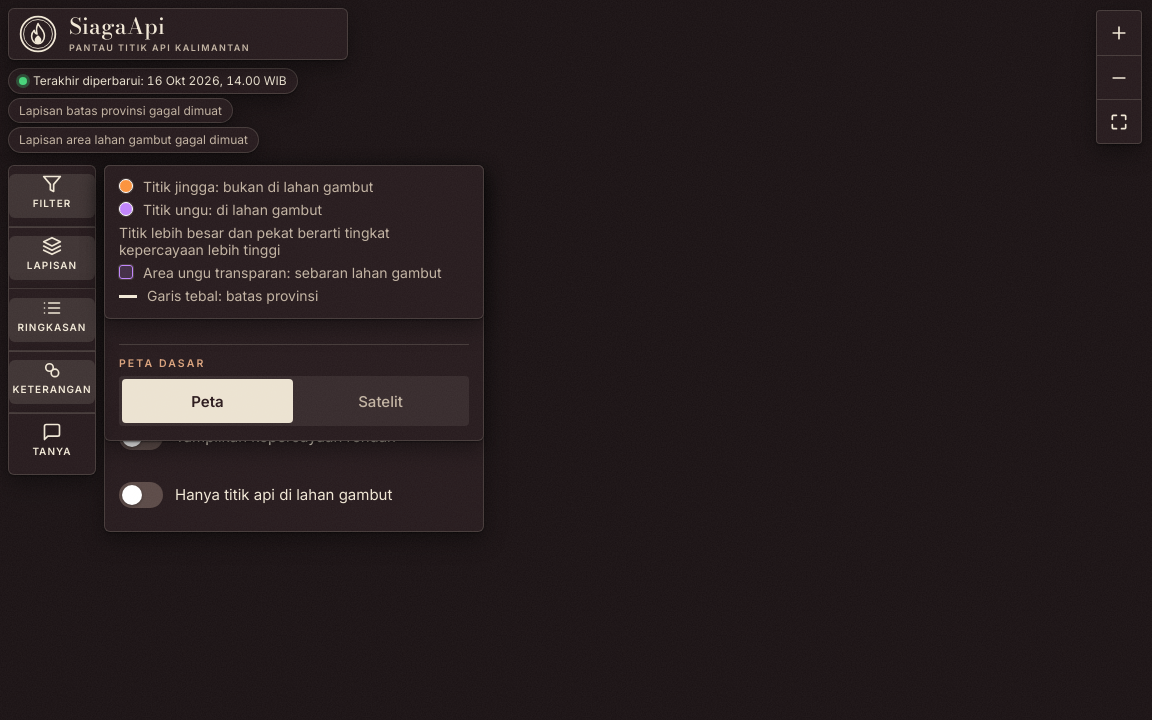
Test: a chat message is on screen once it has arrived, and at once with reduced motion
This screenshot has width=1152, height=720.
Click the button "Tanya".
click(52, 444)  # box [9, 422, 95, 466]
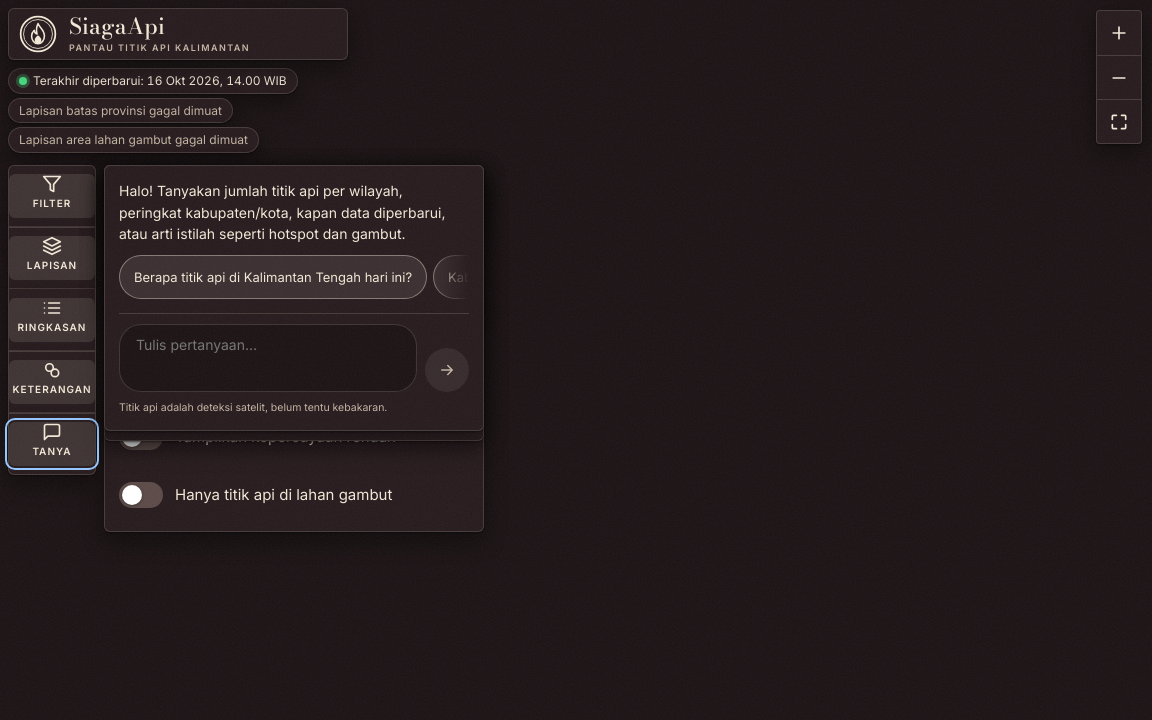
Expected: the element with class "chat-message" is shown, [119, 180, 465, 245]
